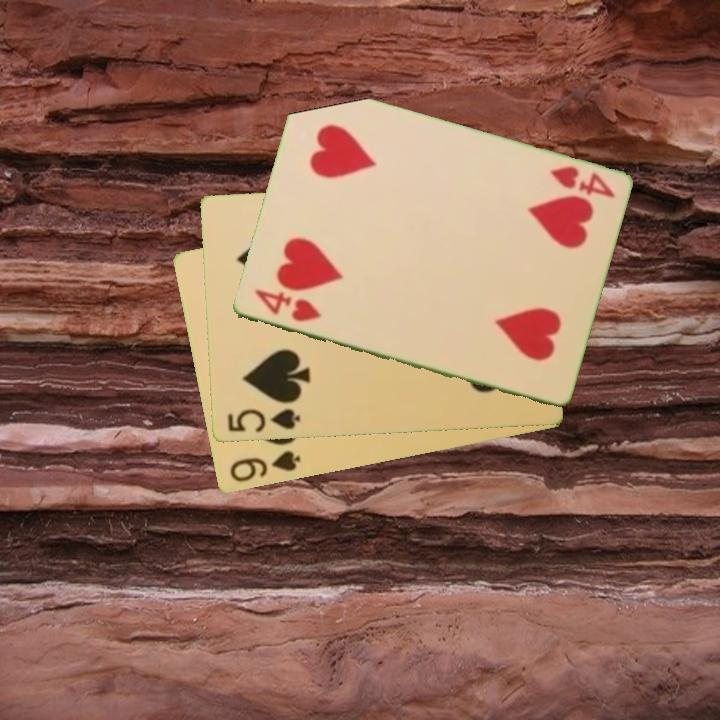4h: (250, 286, 324, 325), (546, 163, 618, 201)
5s: (223, 406, 303, 436)
9s: (226, 447, 303, 486)
